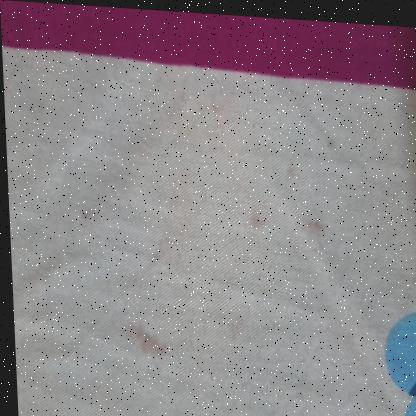spot: (132, 318, 165, 360), (244, 200, 269, 227), (323, 125, 344, 155), (304, 209, 328, 233), (75, 205, 100, 228), (282, 157, 300, 175)
